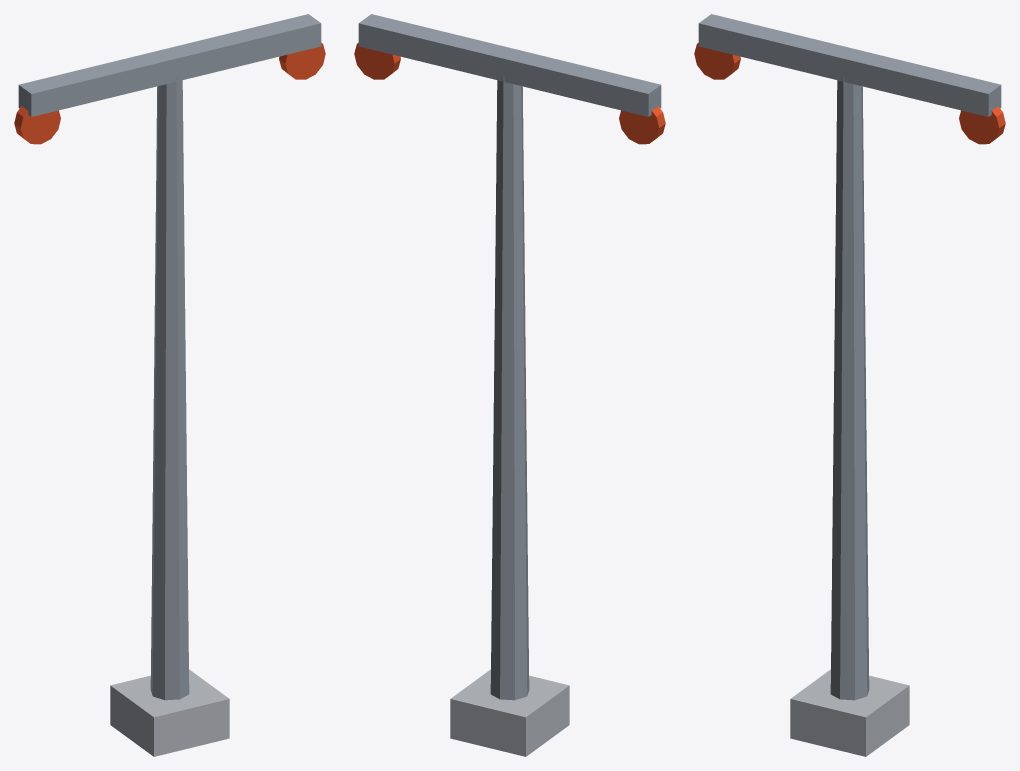
File: lift_pylon.glb
The picture shows the model from 3 angles, left to right: view 1: azimuth 30°, elevation 25°; view 2: azimuth 150°, elevation 25°; view 3: azimuth 330°, elevation 25°; orthographic projection.
Visible parts, largest first — view 1: lift_pylon; view 2: lift_pylon; view 3: lift_pylon.
Part boxes in pixels (x1=…): lift_pylon: x1=14, y1=14, x2=325, y2=756; lift_pylon: x1=354, y1=14, x2=665, y2=756; lift_pylon: x1=694, y1=14, x2=1005, y2=756.
Bounding box in the file's own units: 4.84 × 10.28 × 1.2.
